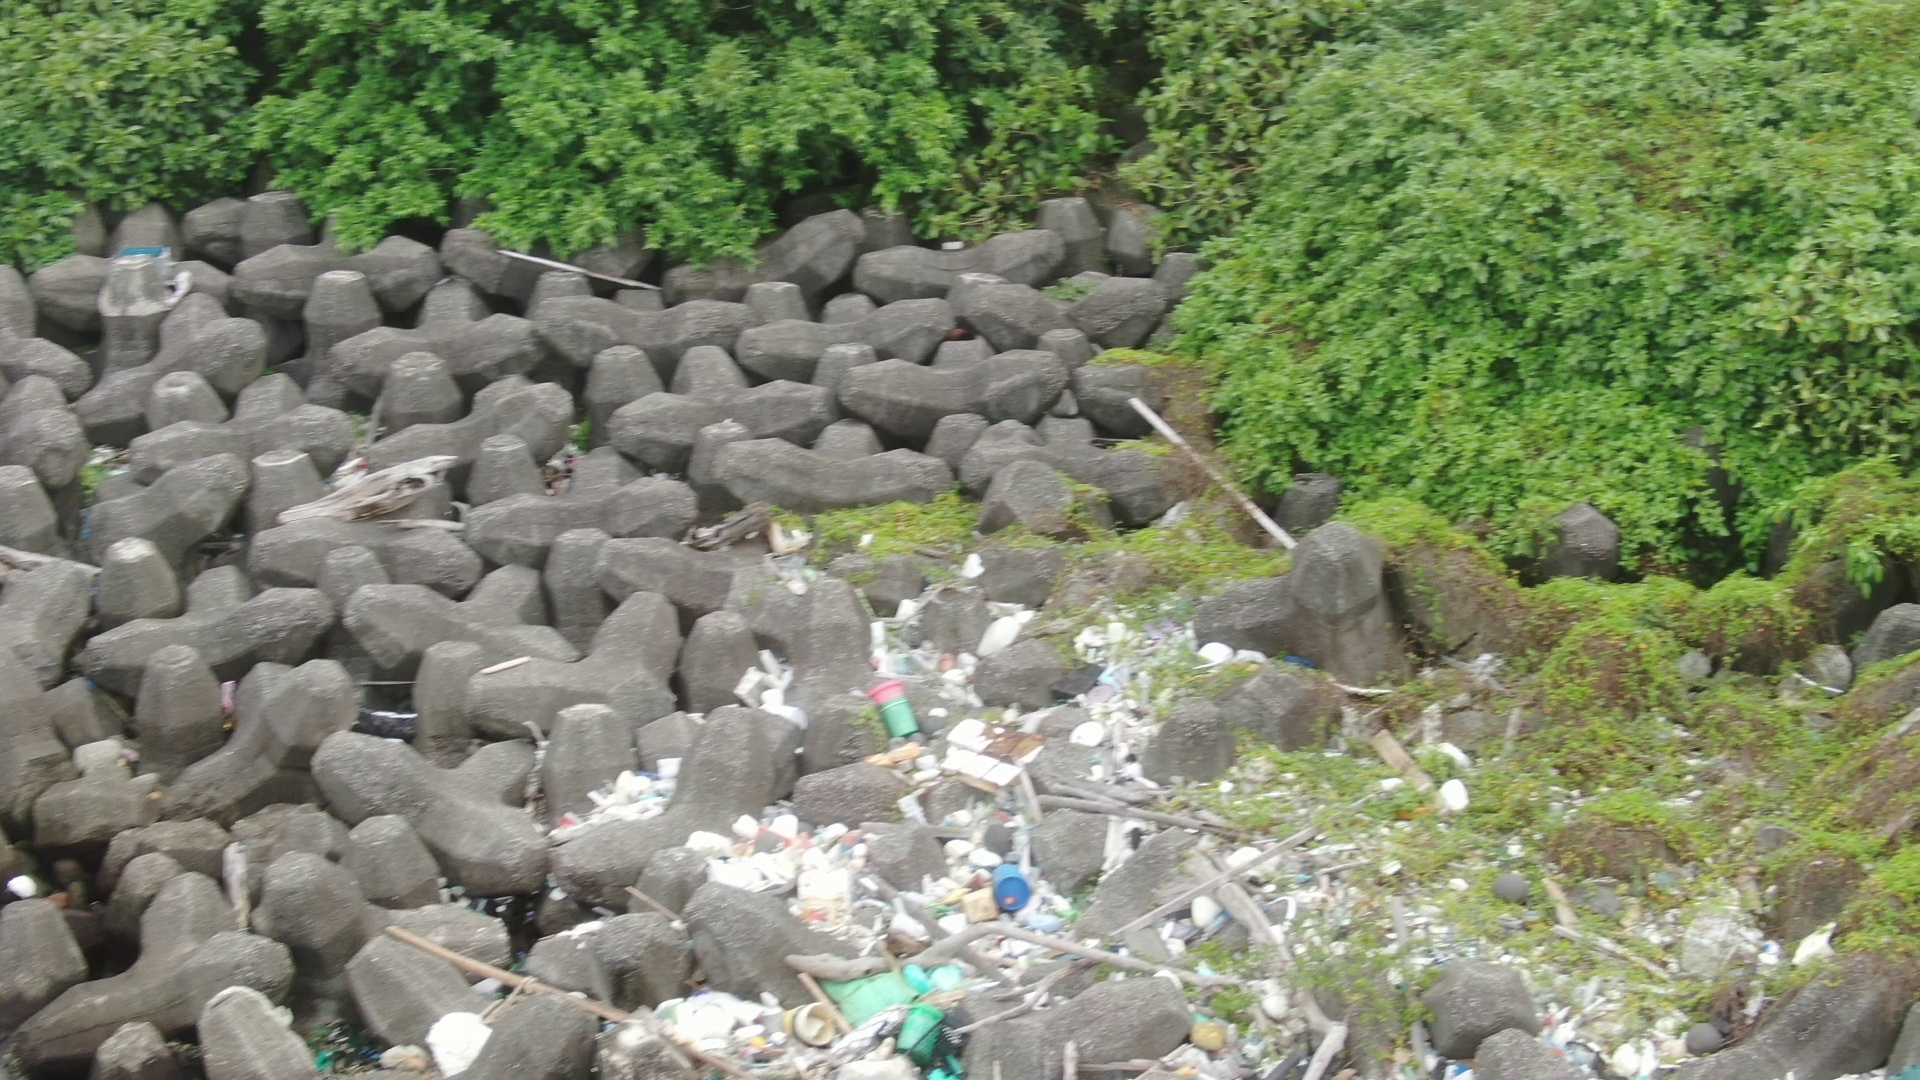garbage: (545, 520, 1484, 1073), (1557, 909, 1841, 1080), (313, 1013, 493, 1080), (535, 435, 591, 501), (107, 233, 182, 280), (212, 676, 243, 735)
